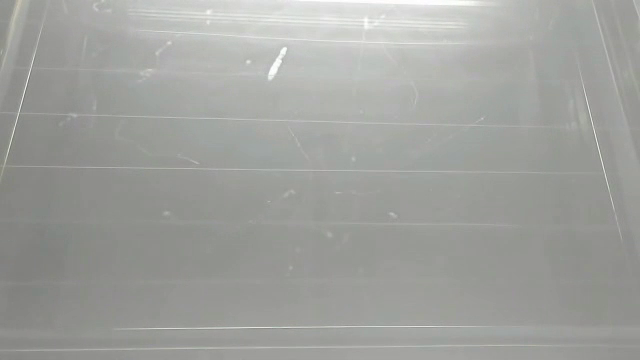alpha: (265, 46, 291, 82)
